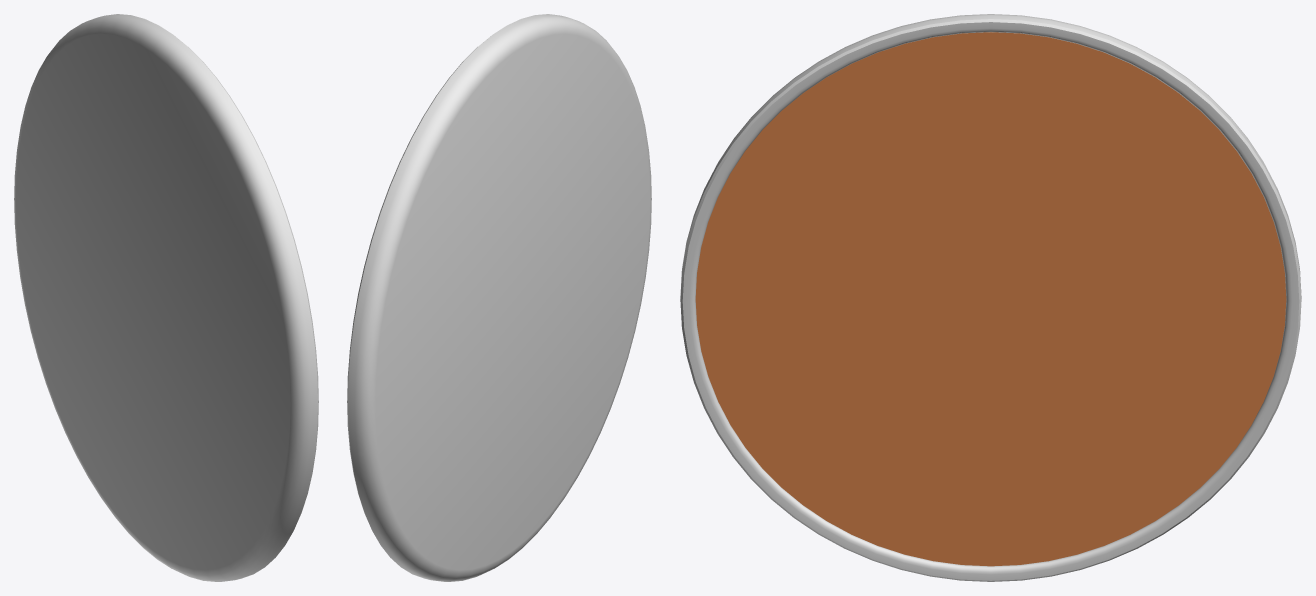
Rendered from mirror-portal.glb.
3 views of the same model, side by side, from view 1: azimuth 30°, elevation 25°; view 2: azimuth 150°, elevation 25°; view 3: azimuth 270°, elevation 25° (orthographic). The views are drawn at different scales.
Visible parts, largest first — view 1: mirror-struc; view 2: mirror-struc; view 3: mirror-fbo, mirror-struc.
Boxes of the visible parts, x1=… form: mirror-struc: x1=14, y1=14, x2=318, y2=581; mirror-struc: x1=347, y1=14, x2=651, y2=581; mirror-fbo: x1=695, y1=32, x2=1286, y2=566; mirror-struc: x1=680, y1=14, x2=1301, y2=581.
Bounding box in the file's own units: 0.3824 × 8.77 × 8.77.
